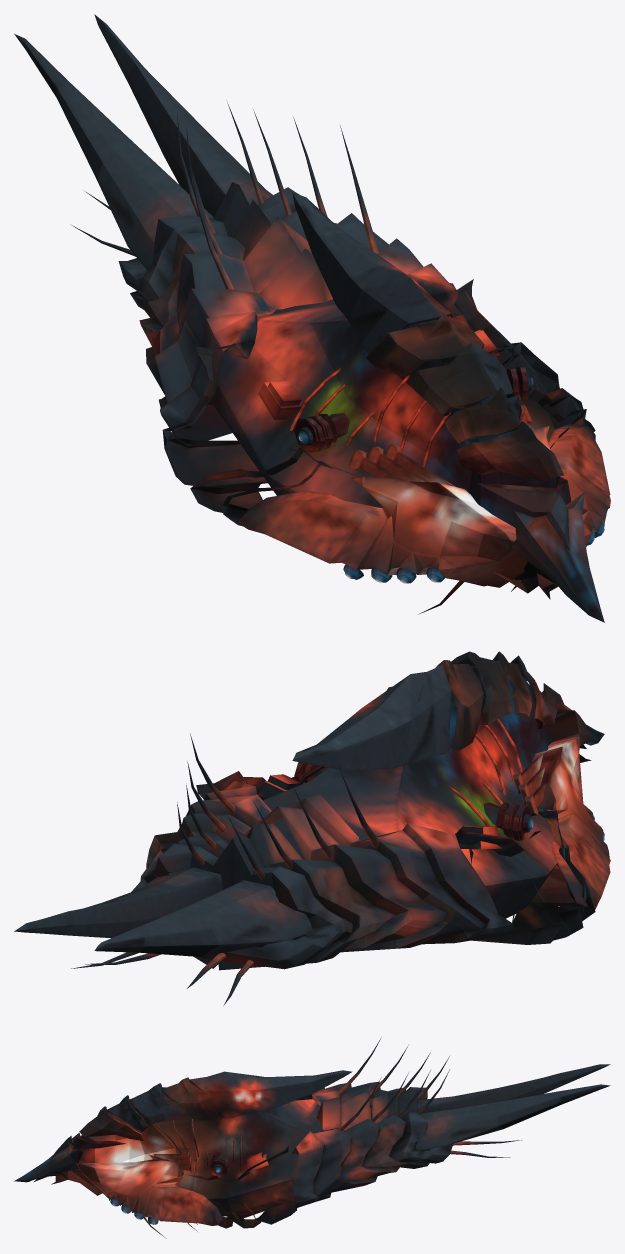
The model's file is act01_prop01_cruiser_e.fbx.
3 renders of one model, top to bottom at view 1: azimuth 30°, elevation 25°; view 2: azimuth 150°, elevation 25°; view 3: azimuth 270°, elevation 25°, orthographic. The views are drawn at different scales.
Parts seen in each view (by area): view 1: act01_prop01_cruiser_e1:broken_cruser; view 2: act01_prop01_cruiser_e1:broken_cruser; view 3: act01_prop01_cruiser_e1:broken_cruser.
Boxes of the visible parts, left/top/right/bottom form: act01_prop01_cruiser_e1:broken_cruser: left=14, top=14, right=610, bottom=622; act01_prop01_cruiser_e1:broken_cruser: left=14, top=651, right=610, bottom=1005; act01_prop01_cruiser_e1:broken_cruser: left=14, top=1038, right=610, bottom=1238.
Size of the model in its own units: 3.7 by 2.92 by 9.16.
